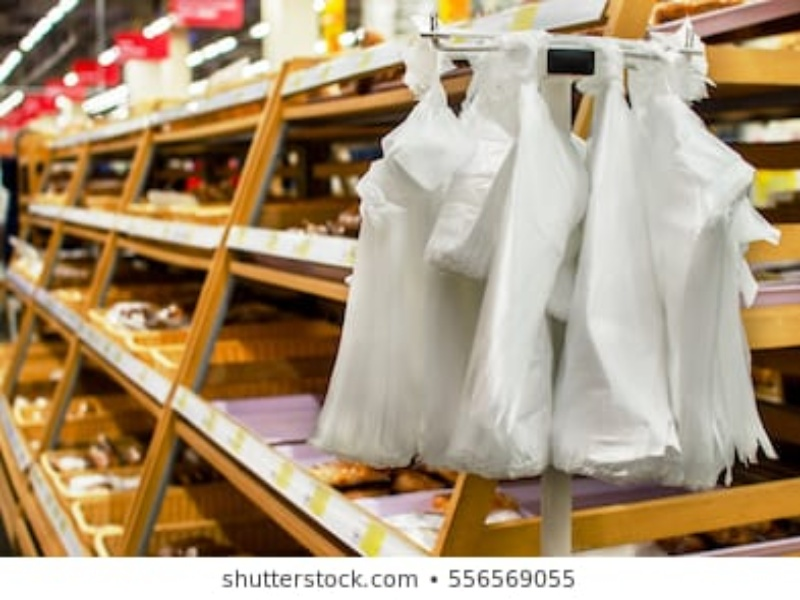plastic-bag: (322, 43, 480, 472), (442, 38, 570, 477), (576, 39, 685, 474), (677, 42, 766, 493)
